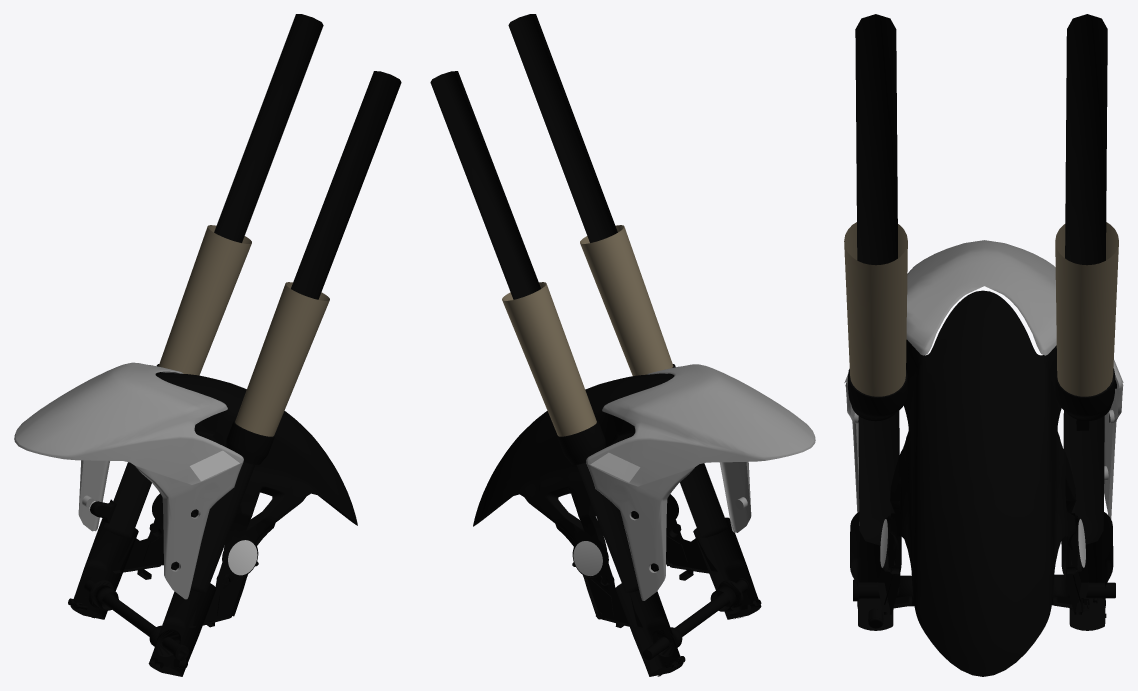
File: front suspension .fbx
The picture shows the model from 3 angles, left to right: view 1: azimuth 30°, elevation 25°; view 2: azimuth 150°, elevation 25°; view 3: azimuth 270°, elevation 25°; orthographic projection. The views are drawn at different scales.
Visible parts, largest first — view 1: polySurface688, polySurface689, pasted__front_mudguard1.004, pasted__front_mudguard1.003, pasted__polySurface44, pasted__front_mudguard1.002, pasted__front_mudguard1.001, polySurface681, polySurface690, polySurface691, polySurface705, polySurface702; view 2: polySurface688, polySurface689, pasted__front_mudguard1.003, pasted__front_mudguard1.004, pasted__polySurface44, pasted__front_mudguard1.001, pasted__front_mudguard1.002, polySurface690, polySurface681, polySurface682, polySurface680, polySurface708; view 3: polySurface689, pasted__front_mudguard1.004, pasted__front_mudguard1.003, polySurface688, pasted__front_mudguard1.001, pasted__front_mudguard1.002, pasted__polySurface44, polySurface682, polySurface691, polySurface690, polySurface681.
Part boxes in pixels (<box>): polySurface688: <box>14,362,243,599</box>; polySurface689: <box>155,372,357,549</box>; pasted__front_mudguard1.004: <box>190,71,401,592</box>; pasted__front_mudguard1.003: <box>104,14,323,537</box>; pasted__polySurface44: <box>68,518,216,676</box>; pasted__front_mudguard1.002: <box>235,282,329,436</box>; pasted__front_mudguard1.001: <box>158,225,251,375</box>; polySurface681: <box>113,498,163,579</box>; polySurface690: <box>188,538,247,627</box>; polySurface691: <box>226,420,274,464</box>; polySurface705: <box>228,540,257,575</box>; polySurface702: <box>190,450,239,481</box>; polySurface688: <box>586,364,815,600</box>; polySurface689: <box>473,373,674,549</box>; pasted__front_mudguard1.003: <box>430,71,638,592</box>; pasted__front_mudguard1.004: <box>508,14,727,537</box>; pasted__polySurface44: <box>615,517,761,676</box>; pasted__front_mudguard1.001: <box>502,282,596,436</box>; pasted__front_mudguard1.002: <box>580,225,673,375</box>; polySurface690: <box>666,498,717,580</box>; polySurface681: <box>583,539,642,628</box>; polySurface682: <box>557,420,605,464</box>; polySurface680: <box>573,541,602,575</box>; polySurface708: <box>590,452,640,482</box>; polySurface689: <box>890,290,1116,676</box>; pasted__front_mudguard1.004: <box>855,14,899,545</box>; pasted__front_mudguard1.003: <box>1063,14,1107,544</box>; polySurface688: <box>845,240,1123,525</box>; pasted__front_mudguard1.001: <box>1055,222,1118,396</box>; pasted__front_mudguard1.002: <box>844,222,907,396</box>; pasted__polySurface44: <box>850,512,1115,630</box>; polySurface682: <box>1055,368,1115,421</box>; polySurface691: <box>848,369,907,421</box>; polySurface690: <box>877,513,913,614</box>; polySurface681: <box>1053,513,1088,614</box>.
Bounding box in the file's own units: 147 × 227 × 77.18.
